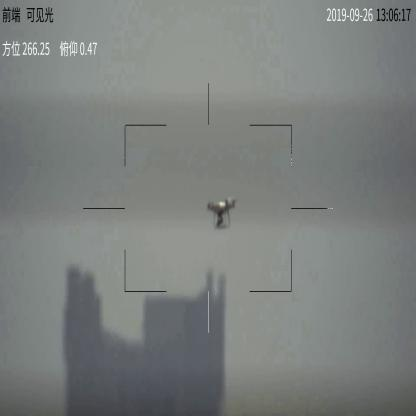uav: (201, 198, 241, 229)
